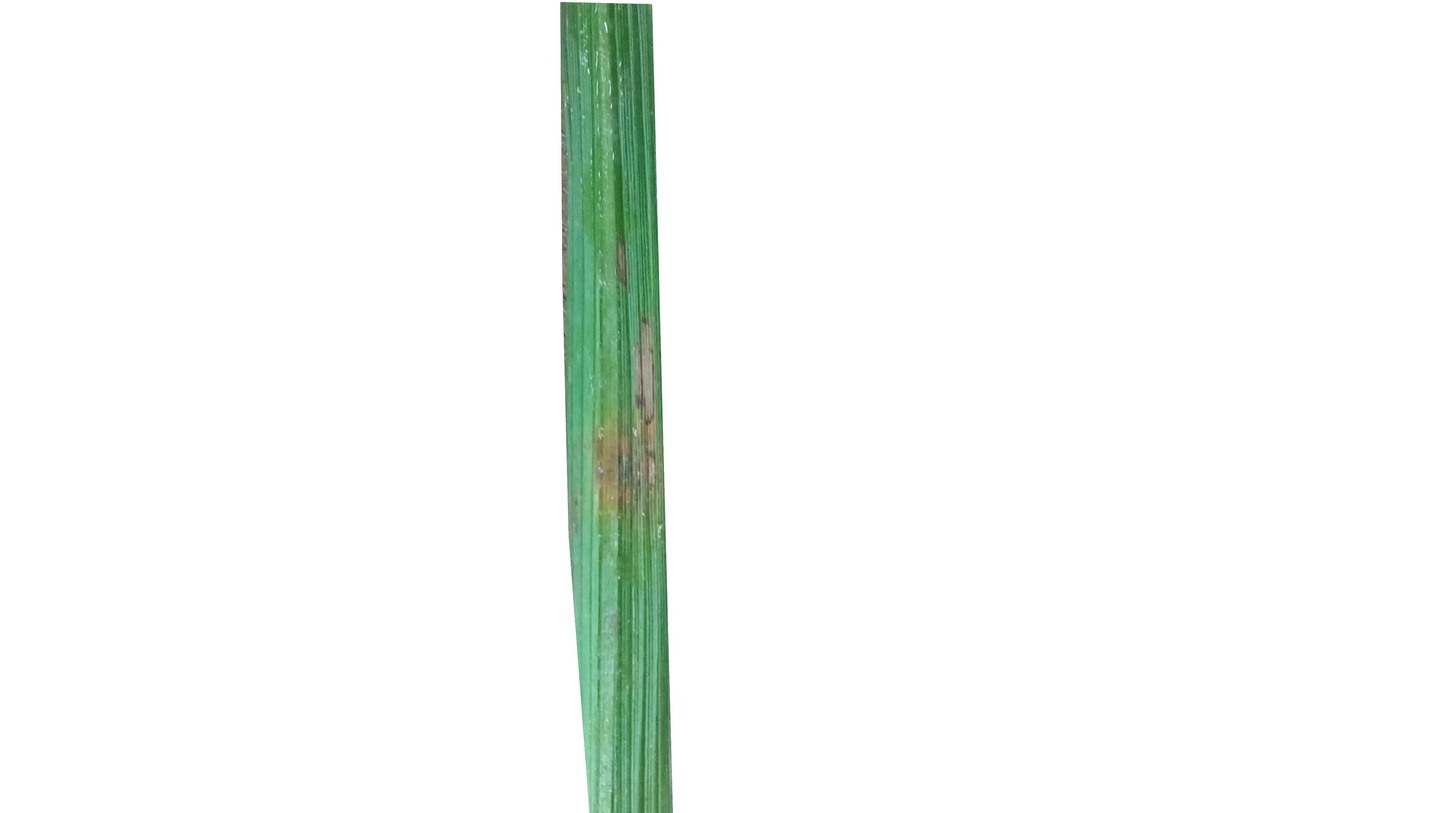Rice blast: (596, 308, 656, 523), (616, 241, 628, 286)
